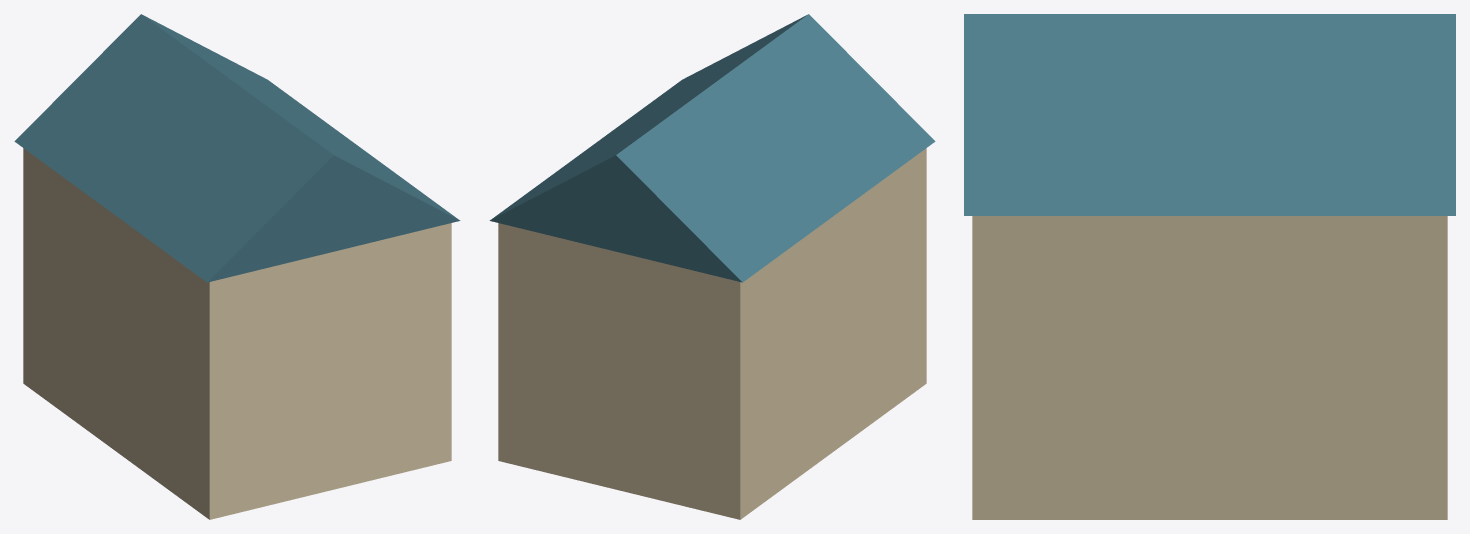
Rendered from block_shrine.glb.
3 views of the same model, side by side, from view 1: azimuth 30°, elevation 25°; view 2: azimuth 150°, elevation 25°; view 3: azimuth 270°, elevation 25° (orthographic). The views are drawn at different scales.
Visible parts, largest first — view 1: Body.006, Roof.006; view 2: Body.006, Roof.006; view 3: Body.006, Roof.006.
Part boxes in pixels (bbox=[...]): Body.006: bbox=[23, 148, 451, 519]; Roof.006: bbox=[14, 14, 460, 282]; Body.006: bbox=[498, 148, 926, 519]; Roof.006: bbox=[489, 14, 935, 282]; Body.006: bbox=[972, 216, 1447, 519]; Roof.006: bbox=[964, 14, 1455, 215].
Bounding box in the file's own units: 15.7 × 20 × 20.7.
